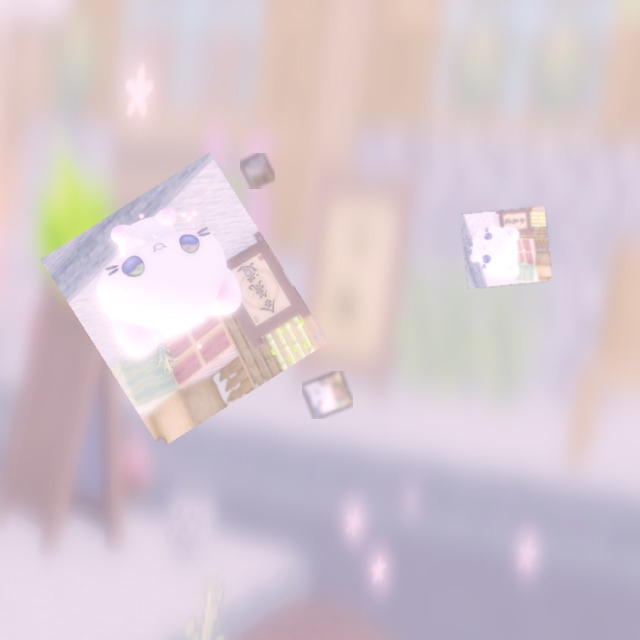urso_branco: (40, 152, 330, 449), (461, 206, 552, 289), (302, 371, 353, 419), (240, 153, 275, 189)
